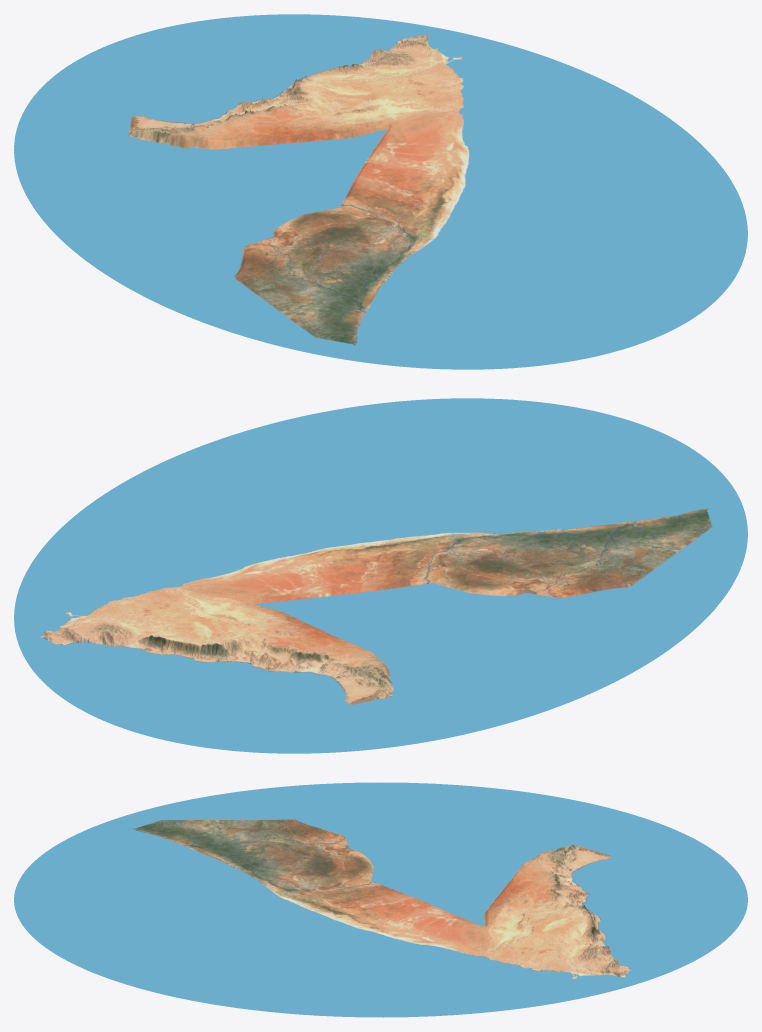
Rendered from SOM-previa-terrain.glb.
3 renders of one model, top to bottom at view 1: azimuth 30°, elevation 25°; view 2: azimuth 150°, elevation 25°; view 3: azimuth 270°, elevation 25°, orthographic. The views are drawn at different scales.
Parts seen in each view (by area): view 1: Somália; view 2: Somália; view 3: Somália.
Boxes of the visible parts, x1=… form: Somália: x1=14, y1=14, x2=747, y2=369; Somália: x1=14, y1=398, x2=747, y2=753; Somália: x1=14, y1=782, x2=747, y2=1017.
Size of the model in its own units: 1.96 by 0.0405 by 2.58.
Materials: 1 (1 with a texture image).
